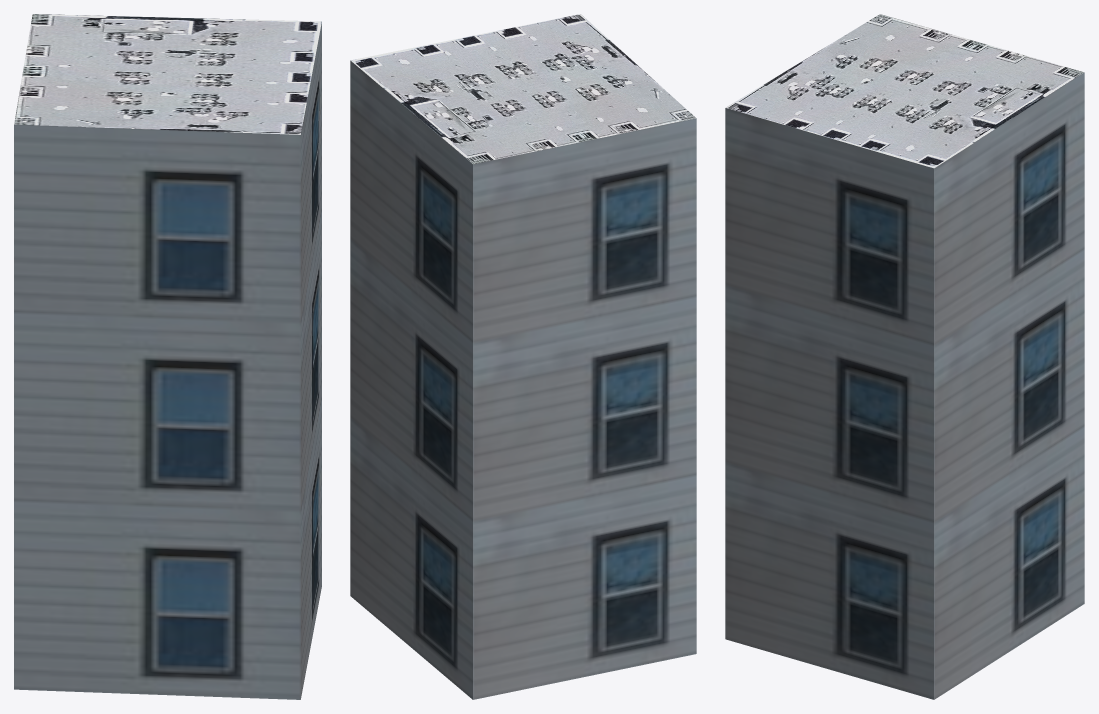
Rendered from ResTex__3243.fbx.
3 renders of one model, left to right at view 1: azimuth 30°, elevation 25°; view 2: azimuth 150°, elevation 25°; view 3: azimuth 270°, elevation 25°, orthographic. The views are drawn at different scales.
Visible parts, largest first — view 1: CityEngineMaterial_18_m, CityEngineMaterial_8_m; view 2: CityEngineMaterial_18_m, CityEngineMaterial_8_m; view 3: CityEngineMaterial_18_m, CityEngineMaterial_8_m.
Boxes of the visible parts, left/top/right/bottom form: CityEngineMaterial_18_m: left=14, top=22, right=321, bottom=699; CityEngineMaterial_8_m: left=14, top=14, right=321, bottom=134; CityEngineMaterial_18_m: left=350, top=60, right=696, bottom=699; CityEngineMaterial_8_m: left=350, top=14, right=695, bottom=164; CityEngineMaterial_18_m: left=725, top=72, right=1084, bottom=699; CityEngineMaterial_8_m: left=725, top=14, right=1083, bottom=168.
Bounding box in the file's own units: 5.61 × 9 × 5.51.
2 materials, 2 textured.
